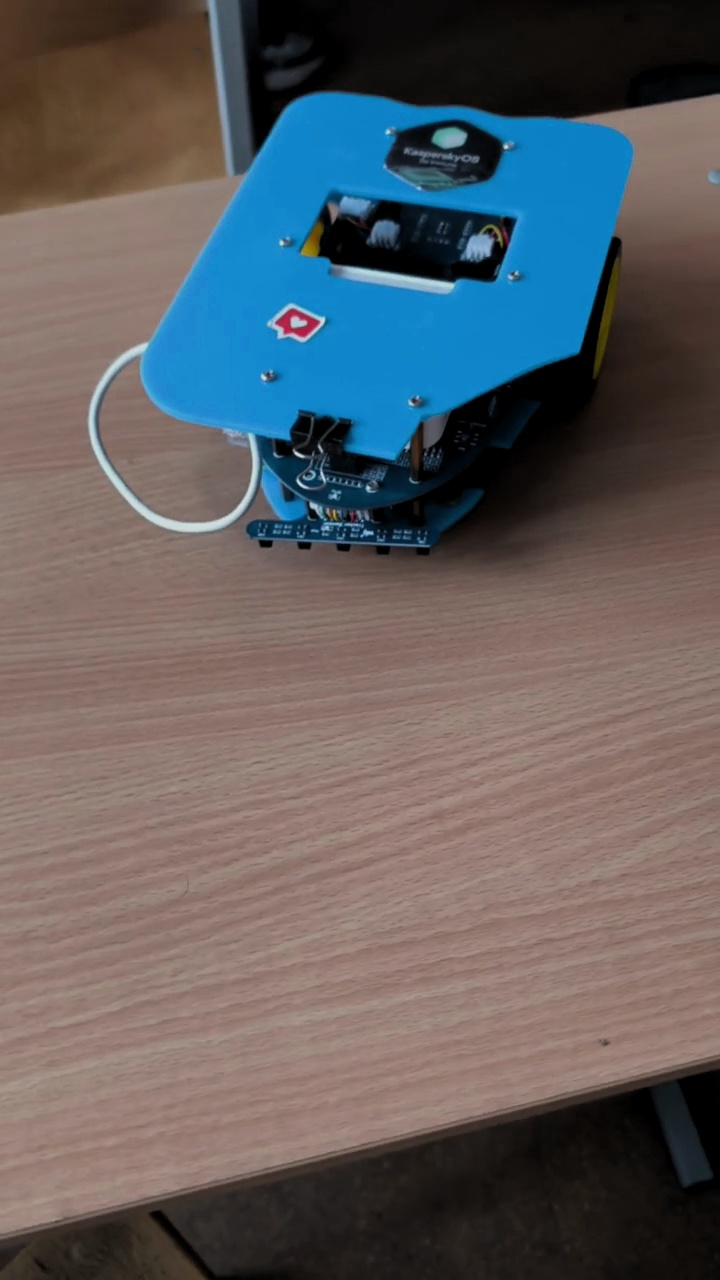robot: (87, 89, 636, 560)
